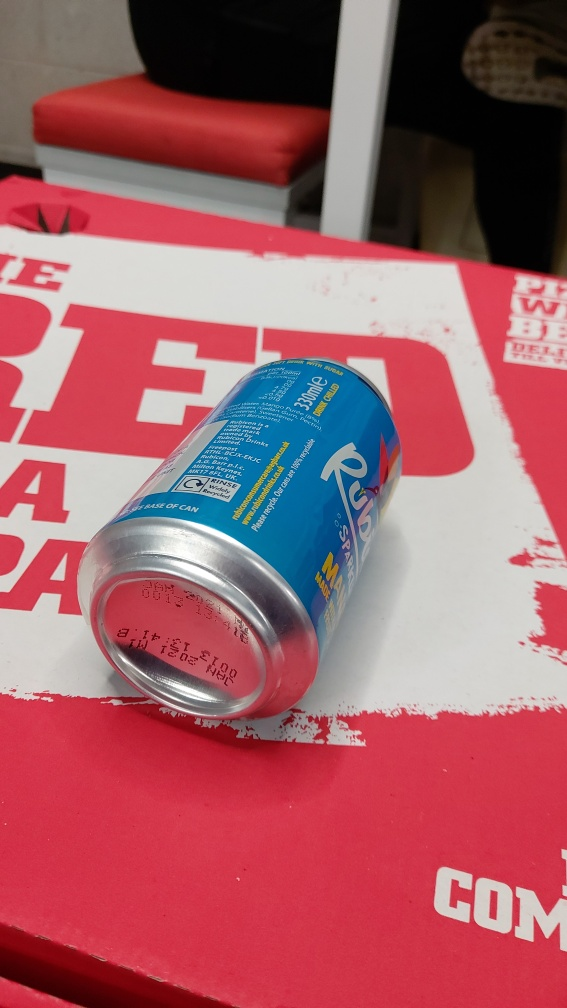can_blue: (64, 315, 455, 761)
